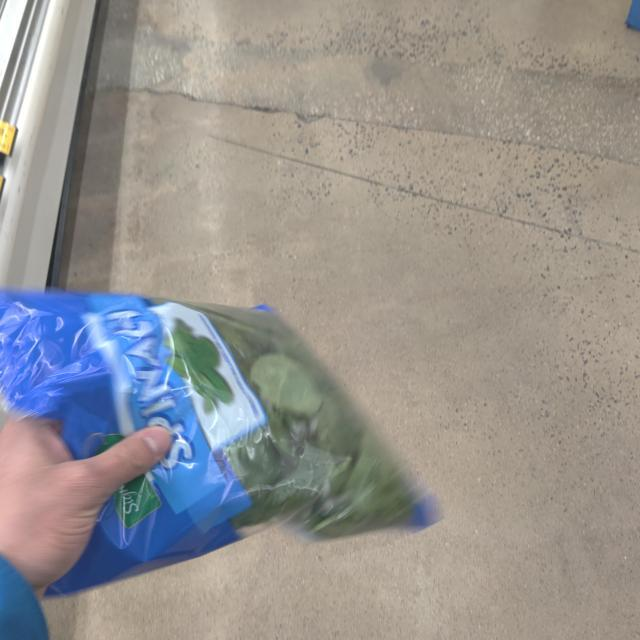Salad: (0, 284, 464, 558)
